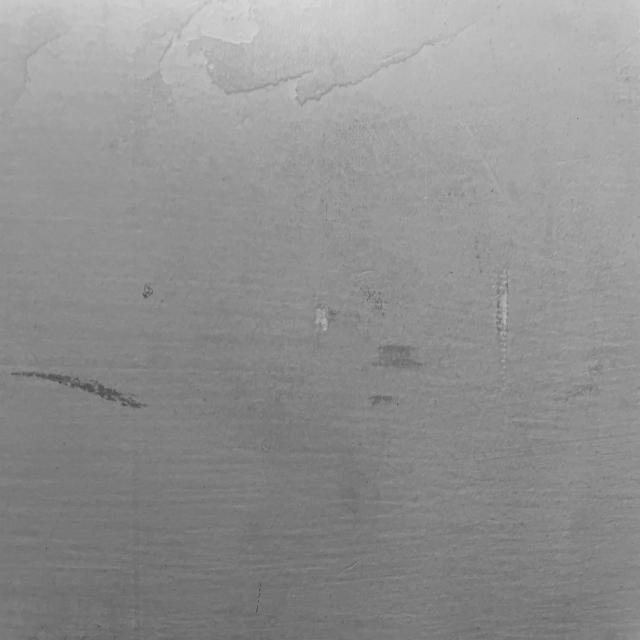rough and patchy surface: (0, 0, 640, 636)
stain marks: (6, 327, 148, 426), (346, 278, 430, 420), (132, 269, 158, 305)
